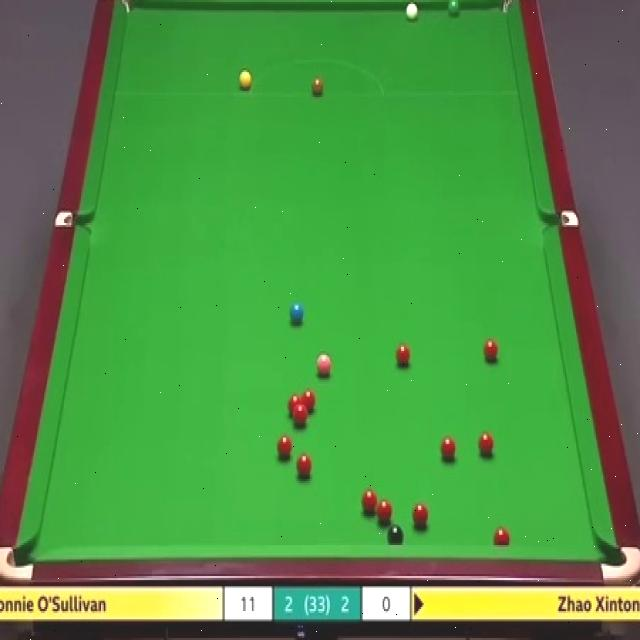black-ball: (385, 524, 403, 547)
blue-ball: (288, 302, 304, 327)
brown-ball: (309, 75, 324, 98)
green-ball: (447, 0, 462, 17)
pink-ball: (316, 350, 332, 377)
red-ball: (376, 496, 394, 528), (395, 341, 412, 371), (295, 453, 312, 482), (411, 503, 428, 530), (361, 488, 378, 515), (278, 433, 294, 460), (478, 431, 494, 457), (440, 436, 456, 462), (483, 337, 499, 363), (302, 390, 316, 415), (494, 526, 510, 546), (288, 394, 301, 415), (294, 407, 307, 427)
white-ball: (403, 0, 418, 24)
yellow-ball: (236, 69, 252, 90)
